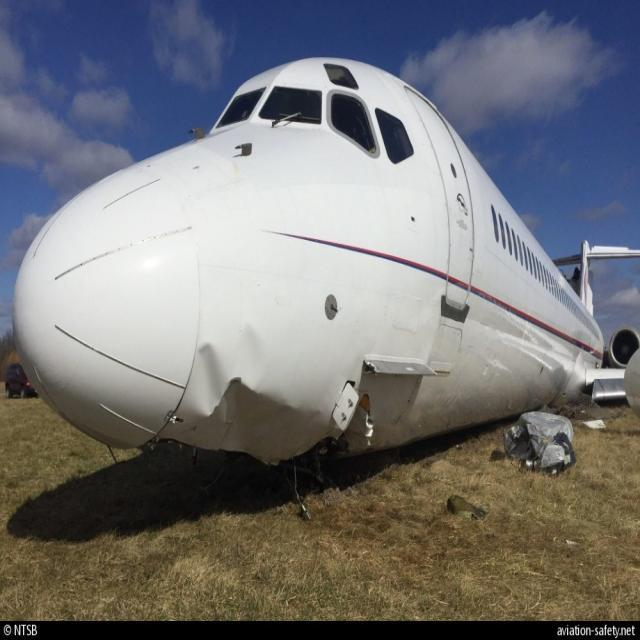dent: (239, 327, 268, 382), (200, 342, 225, 405)
